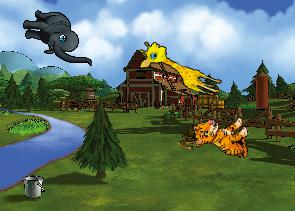elephant: (22, 10, 92, 66)
giraffe: (133, 37, 228, 99)
tiger: (191, 111, 253, 166)
